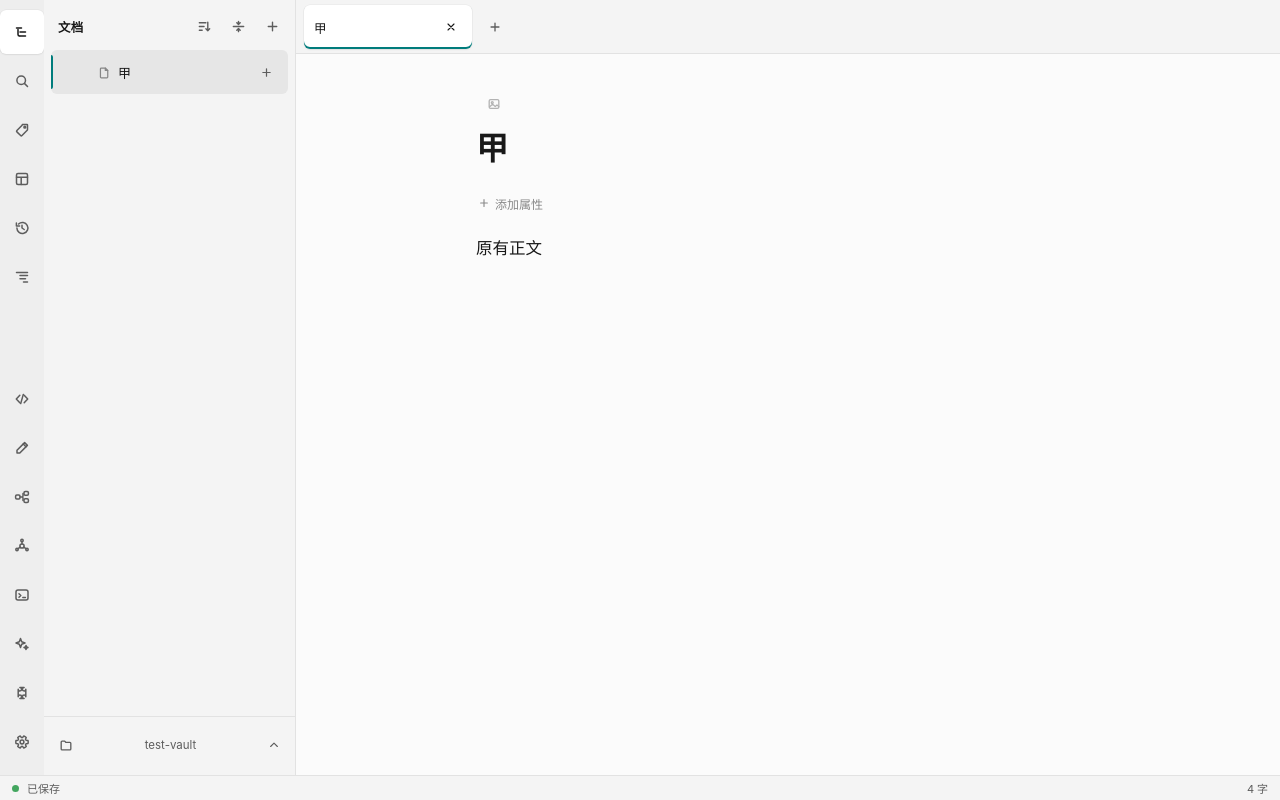
Test: 插入模板 › 选中一个就把展开后的内容插进正文
Click the button named "命令面板": (22, 693) [0, 671, 44, 715]
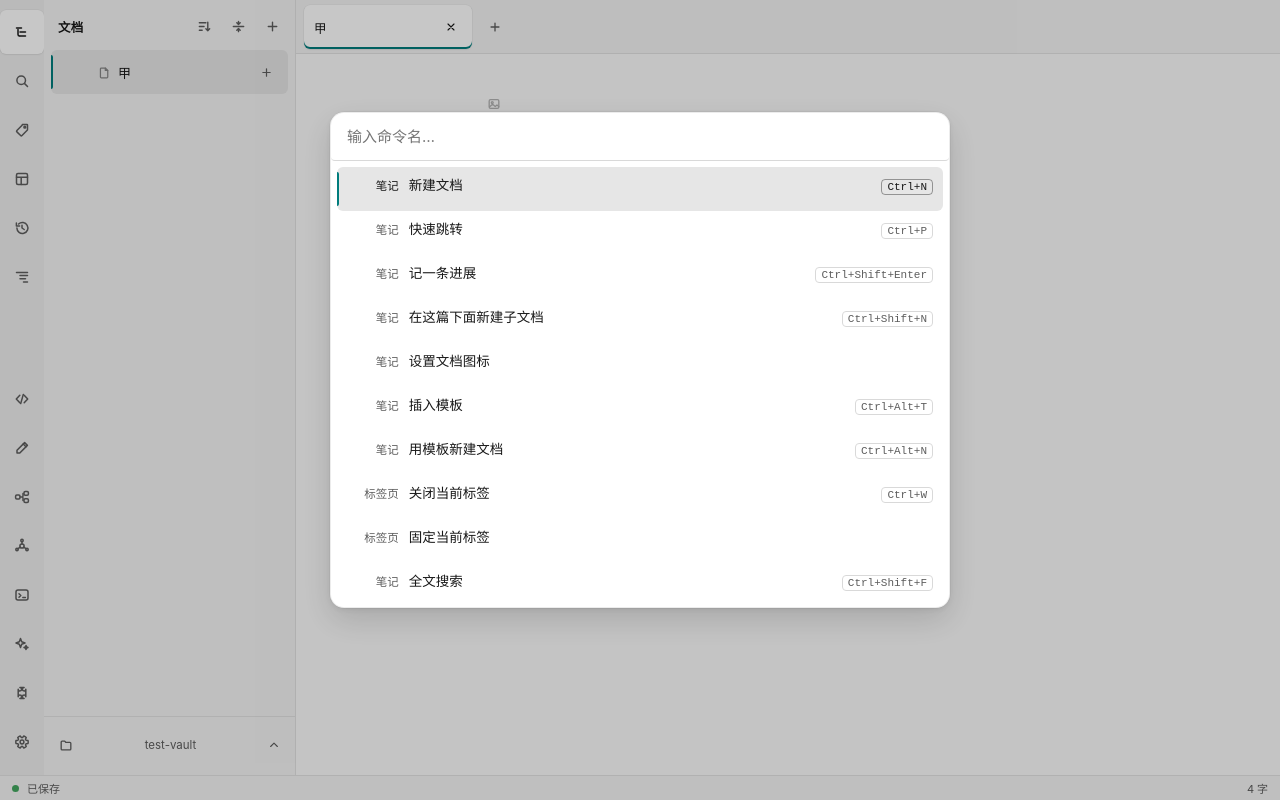
Now the button "笔记 插入模板 Ctrl+Alt+T" is shown
Click the button "笔记 插入模板 Ctrl+Alt+T": (436, 405) [337, 387, 943, 431]
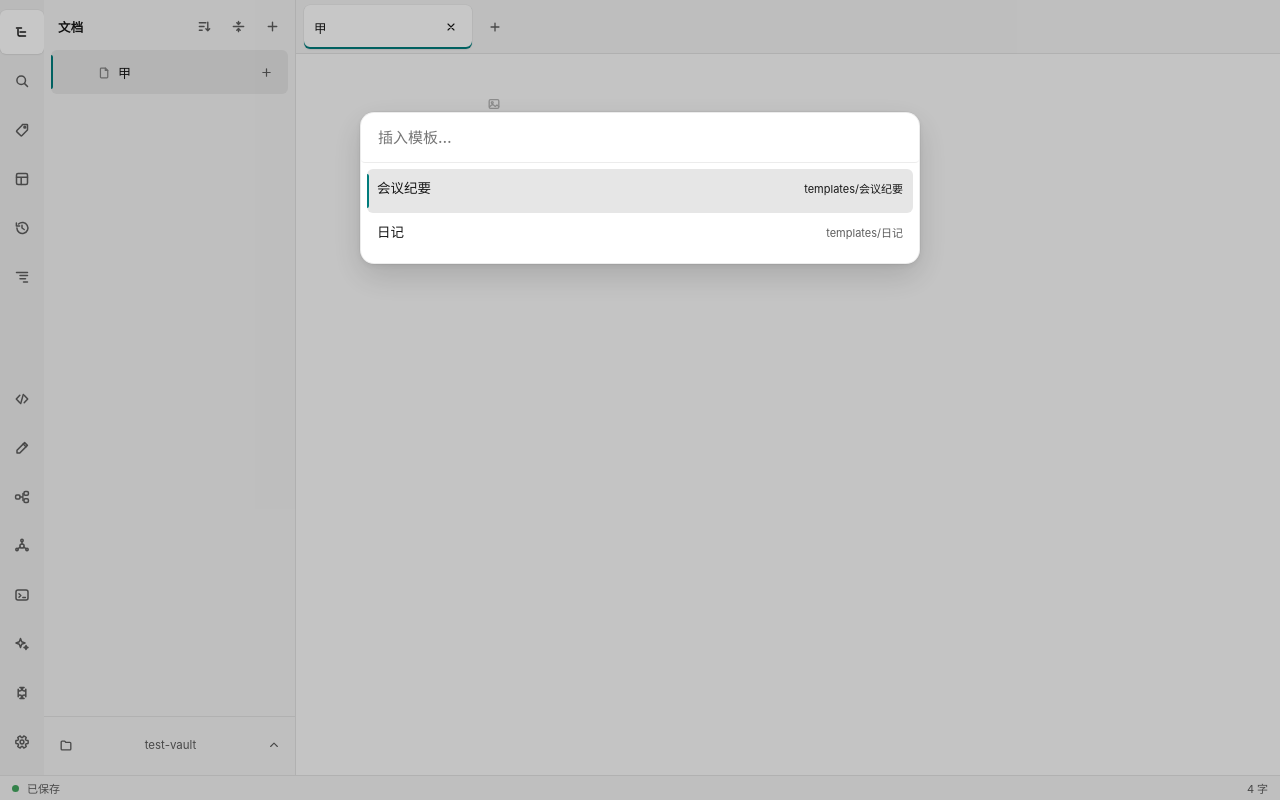
Now the text "日记" is shown
Press the mouse on the text "日记": (390, 231) [377, 221, 404, 241]
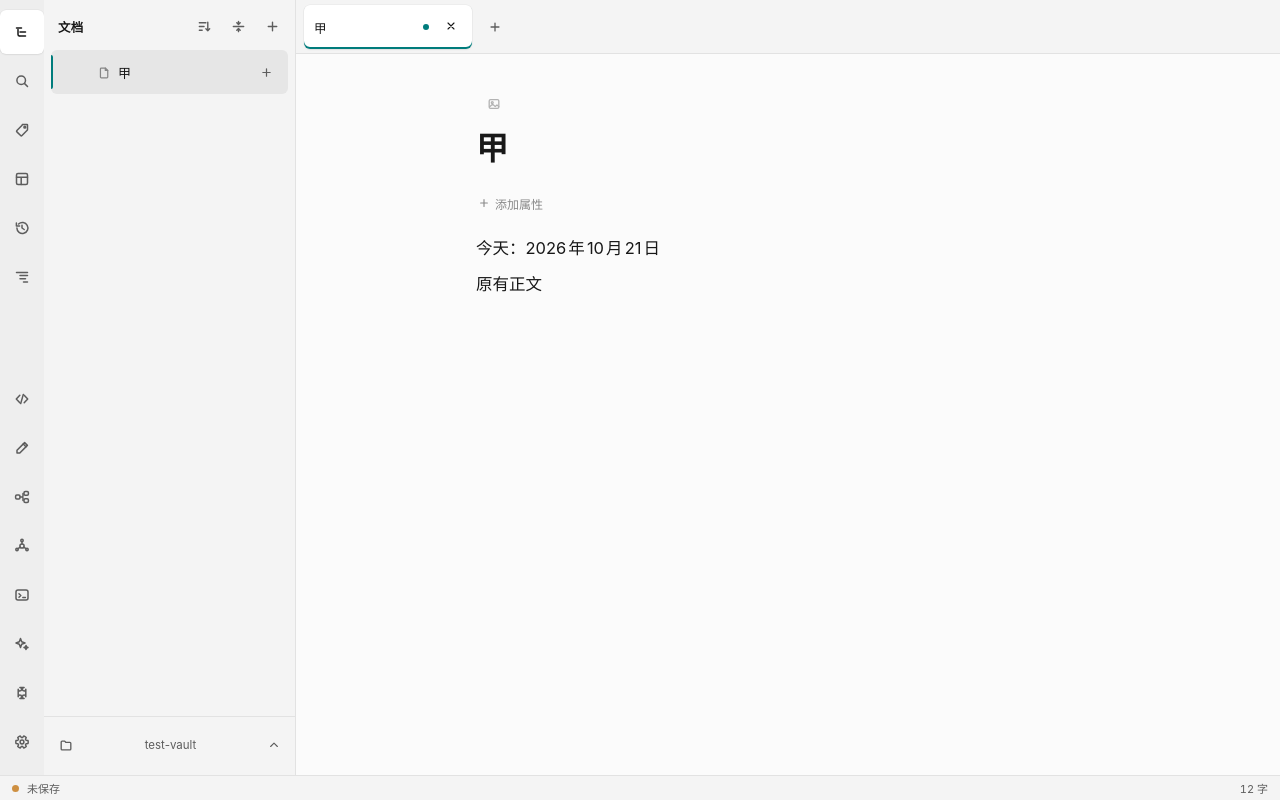
Expected: the field with class "cm-content" shows "原有正文", [476, 238, 660, 294]
Now the field with class "cm-content" reads "今天：2026年10月21日 原有正文", box [476, 238, 660, 294]
